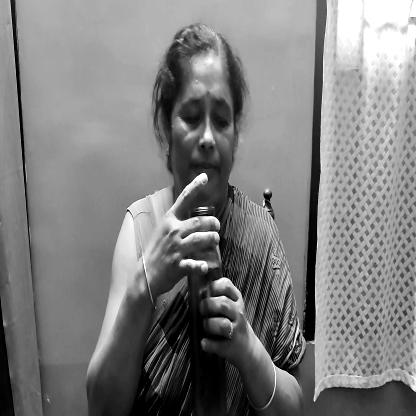Distracted: (158, 30, 246, 220)
